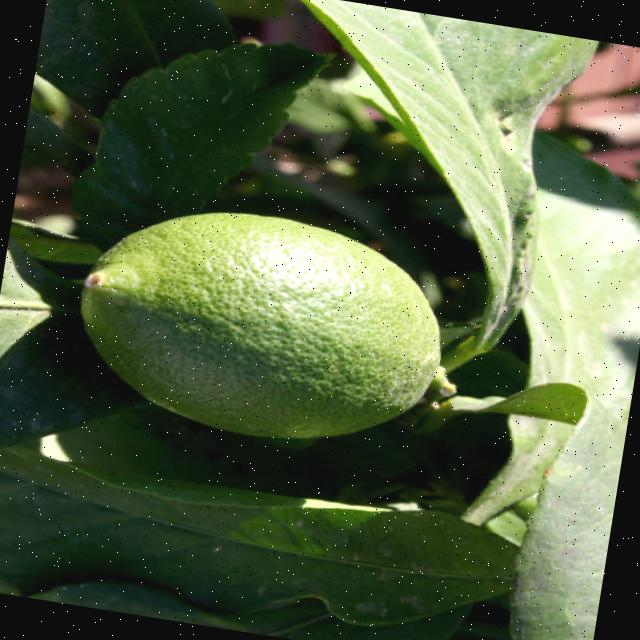Unripe: (62, 190, 464, 466)
